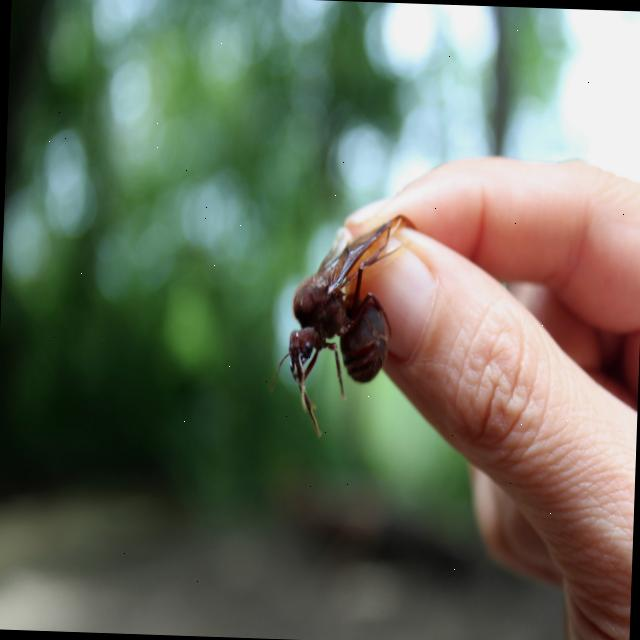Alive-Female-Alate: (266, 210, 418, 440)
